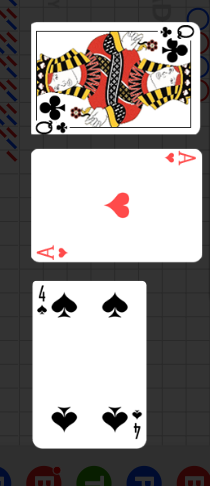4S: (35, 284, 48, 318), (130, 407, 143, 441)
QC: (31, 89, 78, 133), (152, 22, 198, 66)
